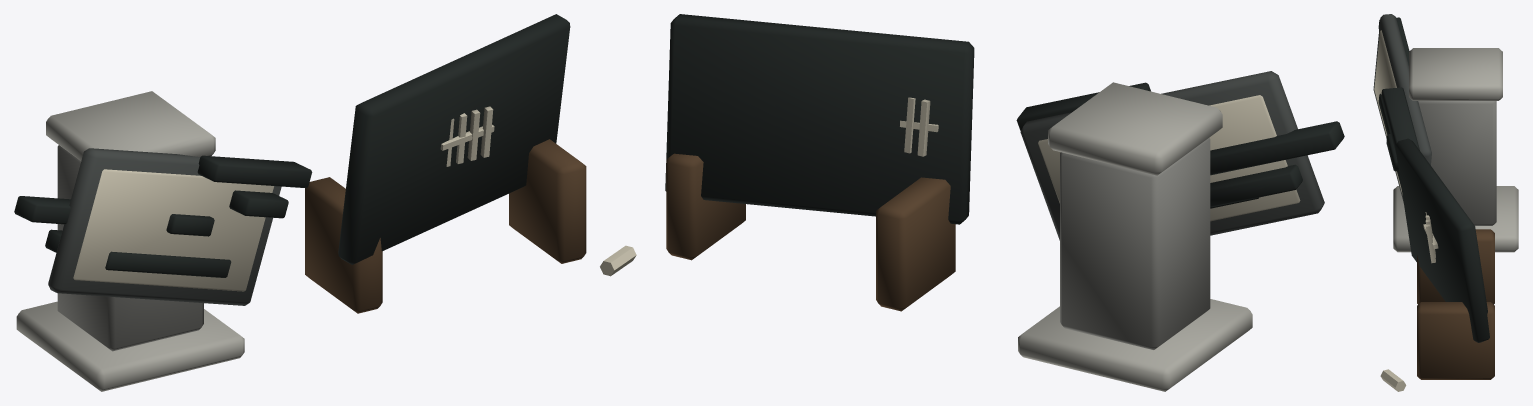
The model's file is stencil_post_b.glb.
The picture shows the model from 3 angles, left to right: view 1: azimuth 30°, elevation 25°; view 2: azimuth 150°, elevation 25°; view 3: azimuth 270°, elevation 25°; orthographic projection. The views are drawn at different scales.
Visible parts, largest first — view 1: Surface; view 2: Surface; view 3: Surface.
Part boxes in pixels (bbox=[...]): Surface: bbox=[14, 14, 636, 391]; Surface: bbox=[665, 14, 1344, 391]; Surface: bbox=[1373, 14, 1518, 391].
Bounding box in the file's own units: 5.02 × 1.94 × 1.39.
